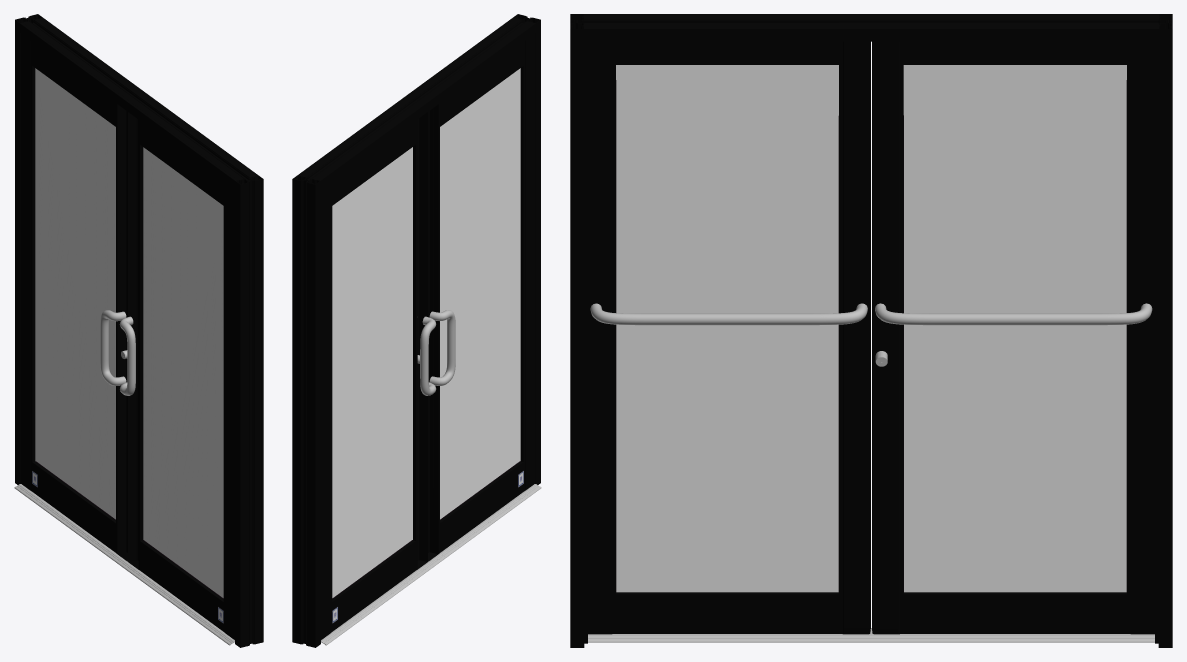
The model's file is Framed_D350_Pair_Animated_BK.glb.
3 renders of one model, left to right at view 1: azimuth 30°, elevation 25°; view 2: azimuth 150°, elevation 25°; view 3: azimuth 270°, elevation 25°, orthographic. The views are drawn at different scales.
Visible parts, largest first — view 1: D350.001, Cube.010, PROFILE_curve_.018, D350, PROFILE_curve_.019, PROFILE_curve_.063, PROFILE_curve_.014, PROFILE_curve_.008, PROFILE_curve_.023, PROFILE_curve_.062, PROFILE_curve_.016, PROFILE_curve_.061 (+2 smaller); view 2: D350.001, Cube.010, PROFILE_curve_.022, PROFILE_curve_.063, D350, PROFILE_curve_.023, PROFILE_curve_.014, PROFILE_curve_.008, PROFILE_curve_.019, PROFILE_curve_.062, PROFILE_curve_.016, PROFILE_curve_.061 (+2 smaller); view 3: D350.001, Cube.010, PROFILE_curve_.063, D350, PROFILE_curve_.008, PROFILE_curve_.023, PROFILE_curve_.019, PROFILE_curve_.062, PROFILE_curve_.014, PROFILE_curve_.061, PROFILE_curve_.016, NurbsPath.002 (+3 smaller).
Boxes of the visible parts, left/top/right/bottom form: D350.001: left=128, top=112, right=234, bottom=639; Cube.010: left=35, top=68, right=115, bottom=519; PROFILE_curve_.018: left=242, top=179, right=260, bottom=647; D350: left=20, top=33, right=35, bottom=491; PROFILE_curve_.019: left=235, top=175, right=263, bottom=647; PROFILE_curve_.063: left=116, top=103, right=127, bottom=561; PROFILE_curve_.014: left=23, top=18, right=255, bottom=180; PROFILE_curve_.008: left=20, top=18, right=257, bottom=189; PROFILE_curve_.023: left=15, top=14, right=42, bottom=484; PROFILE_curve_.062: left=32, top=461, right=115, bottom=552; PROFILE_curve_.016: left=14, top=484, right=234, bottom=645; PROFILE_curve_.061: left=32, top=42, right=115, bottom=126; D350.001: left=428, top=33, right=535, bottom=561; Cube.010: left=332, top=147, right=412, bottom=597; PROFILE_curve_.022: left=295, top=179, right=313, bottom=647; PROFILE_curve_.063: left=413, top=112, right=427, bottom=570; D350: left=321, top=182, right=332, bottom=639; PROFILE_curve_.023: left=292, top=175, right=320, bottom=647; PROFILE_curve_.014: left=300, top=18, right=532, bottom=180; PROFILE_curve_.008: left=298, top=18, right=535, bottom=189; PROFILE_curve_.019: left=513, top=14, right=540, bottom=484; PROFILE_curve_.062: left=332, top=540, right=415, bottom=631; PROFILE_curve_.016: left=321, top=484, right=541, bottom=645; PROFILE_curve_.061: left=332, top=121, right=415, bottom=205; D350.001: left=588, top=41, right=870, bottom=634; Cube.010: left=903, top=65, right=1126, bottom=592; PROFILE_curve_.063: left=872, top=41, right=903, bottom=634; D350: left=1127, top=41, right=1154, bottom=634; PROFILE_curve_.008: left=584, top=14, right=1158, bottom=41; PROFILE_curve_.023: left=1158, top=14, right=1172, bottom=647; PROFILE_curve_.019: left=570, top=14, right=584, bottom=647; PROFILE_curve_.062: left=903, top=592, right=1126, bottom=633; PROFILE_curve_.014: left=584, top=15, right=1158, bottom=27; PROFILE_curve_.061: left=903, top=41, right=1126, bottom=64; PROFILE_curve_.016: left=588, top=628, right=1154, bottom=642; NurbsPath.002: left=590, top=303, right=867, bottom=325.
Bounding box in the file's own units: 0.2107 × 2.18 × 1.92.
6 materials, 1 textured.
